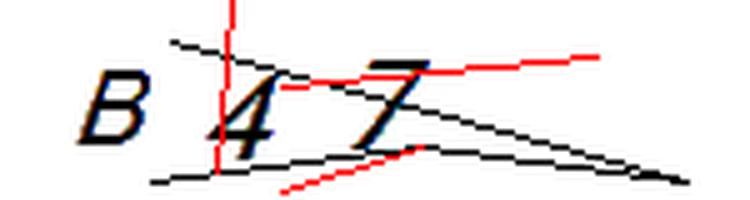4: (197, 64, 305, 174)
7: (345, 52, 437, 155)
B: (70, 59, 156, 159)
